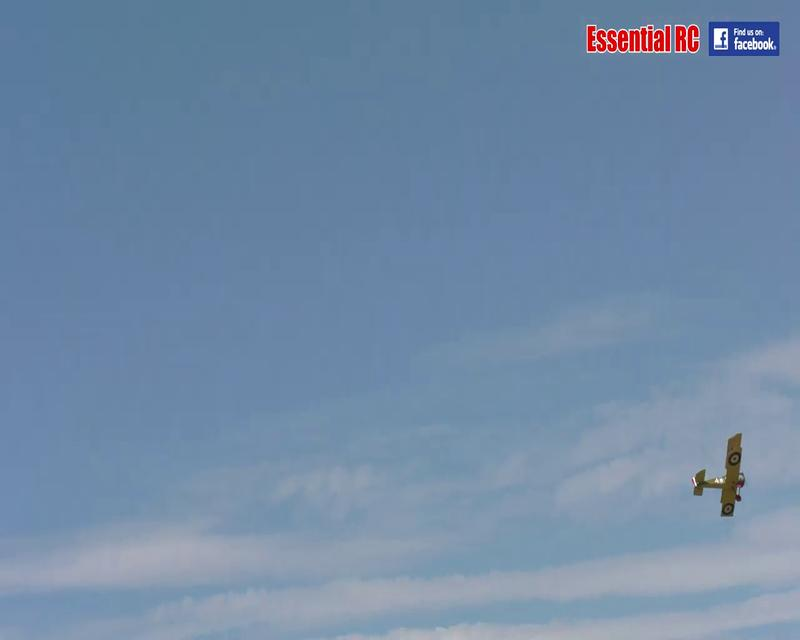UAV: (690, 431, 745, 517), (585, 22, 701, 54)
